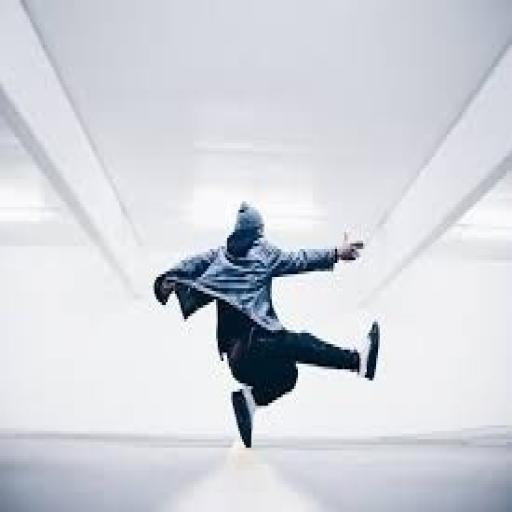dancing: (151, 198, 383, 450)
